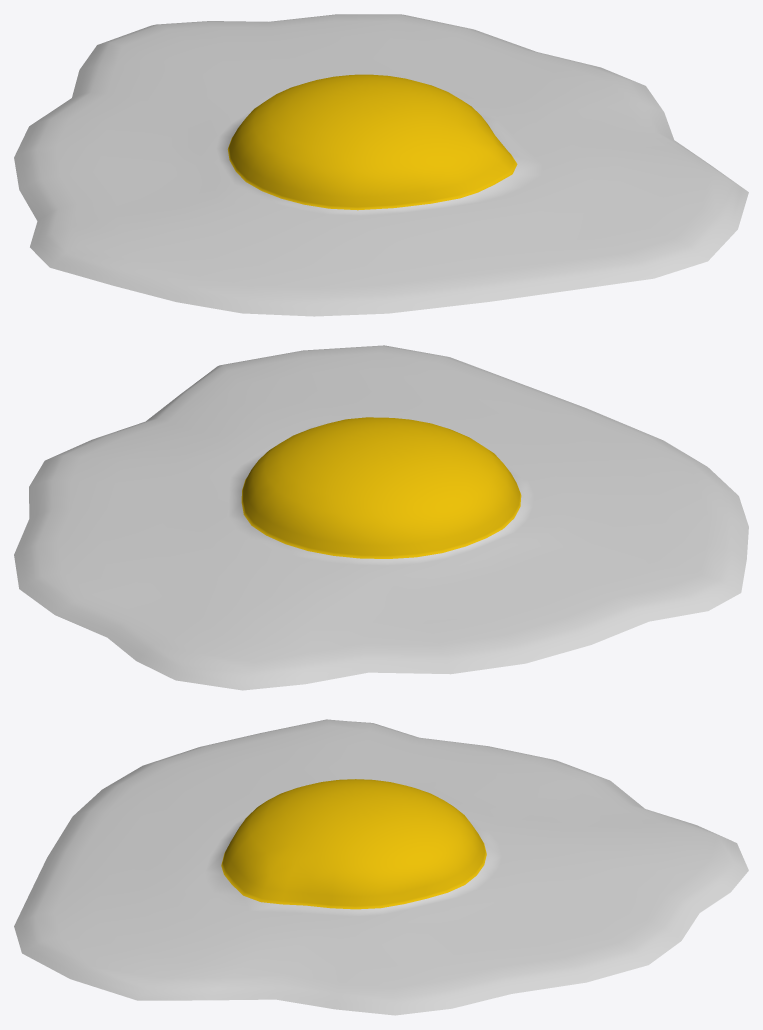
Rendered from EggOverE1.fbx.
3 renders of one model, top to bottom at view 1: azimuth 30°, elevation 25°; view 2: azimuth 150°, elevation 25°; view 3: azimuth 270°, elevation 25°, orthographic. The views are drawn at different scales.
Parts seen in each view (by area): view 1: Sphere.015; view 2: Sphere.015; view 3: Sphere.015.
Boxes of the visible parts, <box> form: Sphere.015: <box>14,14,748,316</box>; Sphere.015: <box>14,345,748,690</box>; Sphere.015: <box>14,719,748,1015</box>.
Bounding box in the file's own units: 528 × 61.24 × 555.
